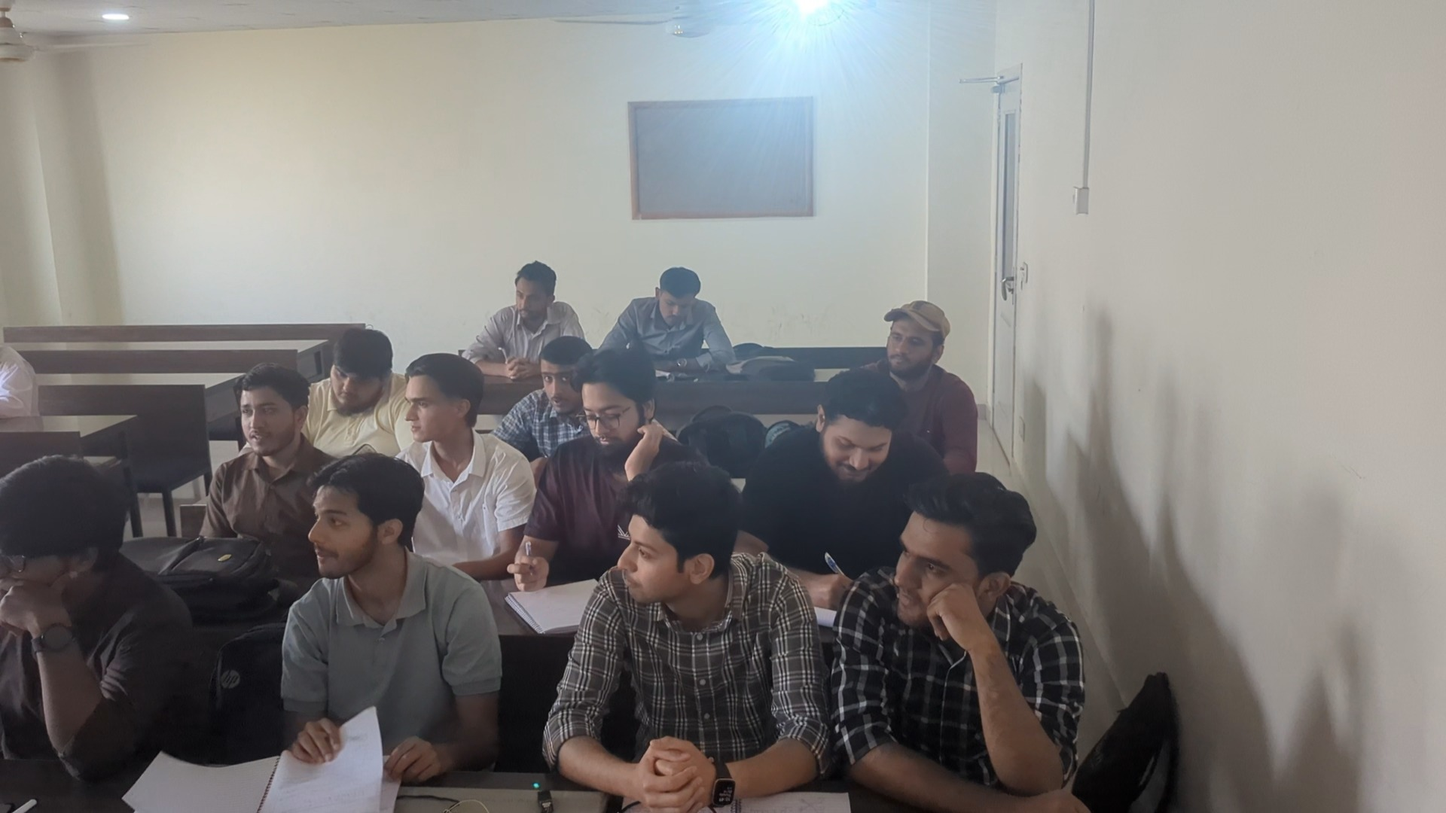look_forward: (874, 488, 1062, 715), (587, 478, 771, 688), (292, 490, 462, 691), (399, 345, 510, 496), (863, 274, 992, 403), (217, 359, 328, 505), (481, 250, 579, 342), (523, 339, 582, 417)
read: (611, 259, 735, 367), (299, 323, 412, 425)
sleep: (3, 423, 219, 724)
write: (523, 396, 644, 619), (779, 366, 898, 582)
